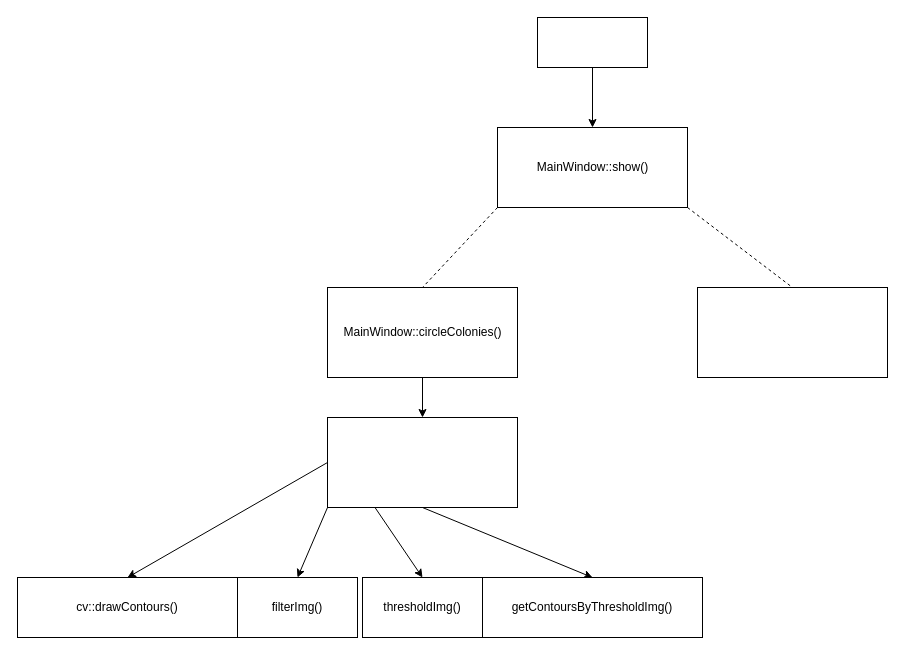
The diagram is 905 pixels wide and 655 high, and some of its shapes have lost their labels. The centre of each missing label's shape, as x and y in pixels:
main(): the point at 592,42
MainWindow::selecImg(): the point at 792,332
Petri::circleRoundColonies(): the point at 422,462
